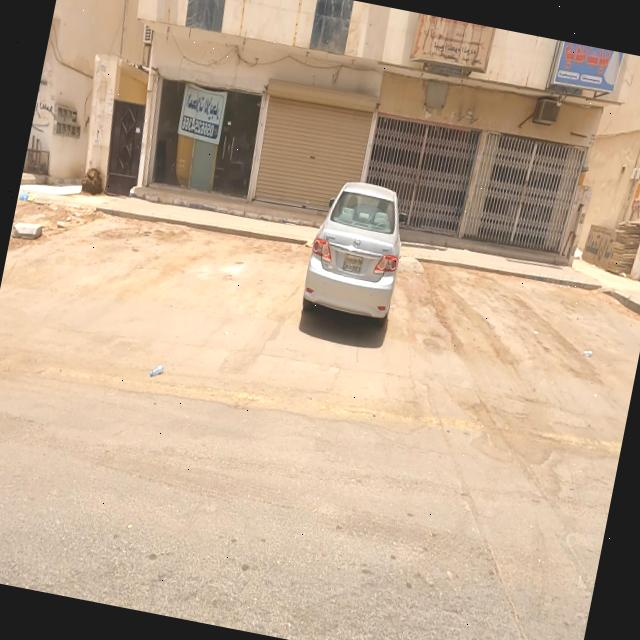Graffiti: (31, 95, 58, 139)
